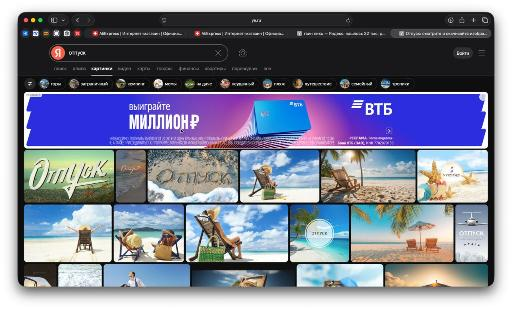yandex: (16, 41, 499, 288)
